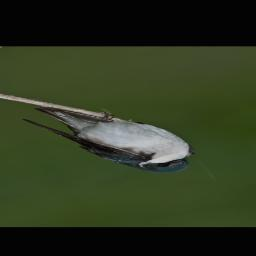Swallow: (14, 88, 212, 190)
